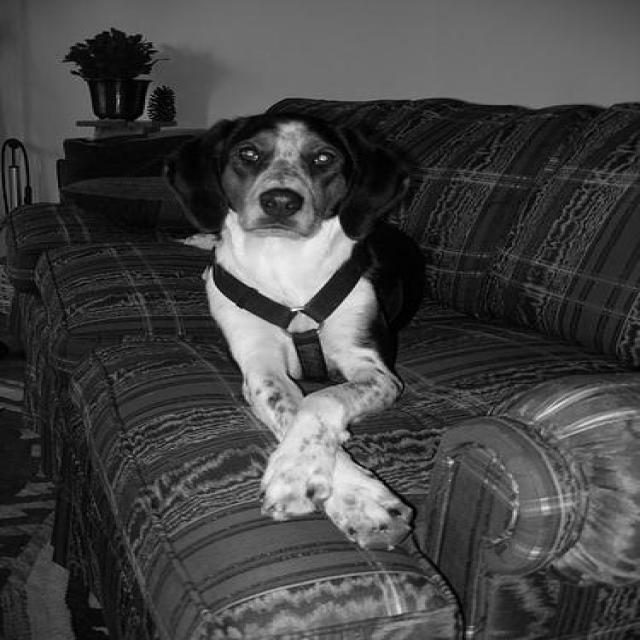laying down: (155, 108, 444, 554)
